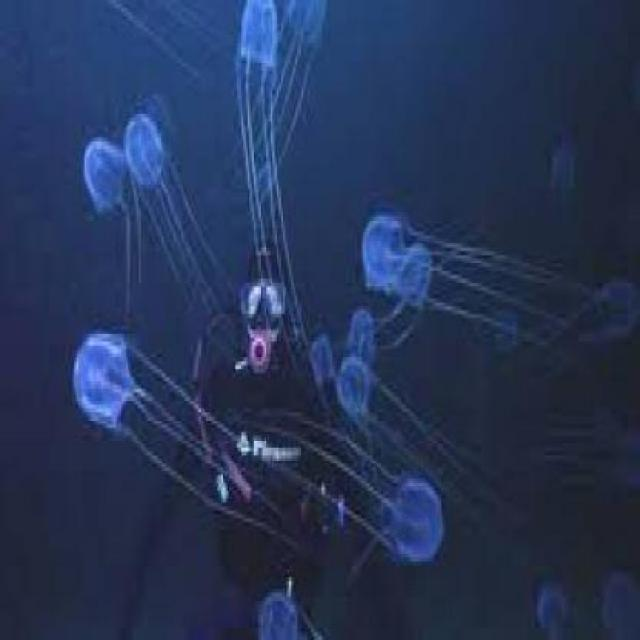Jellyfish: (70, 318, 233, 522), (253, 412, 444, 562), (120, 106, 214, 311), (78, 130, 154, 276)
